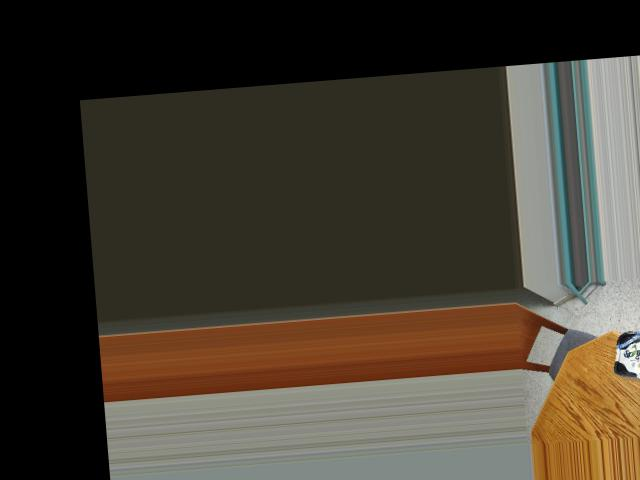cheese: (609, 327, 640, 384)
